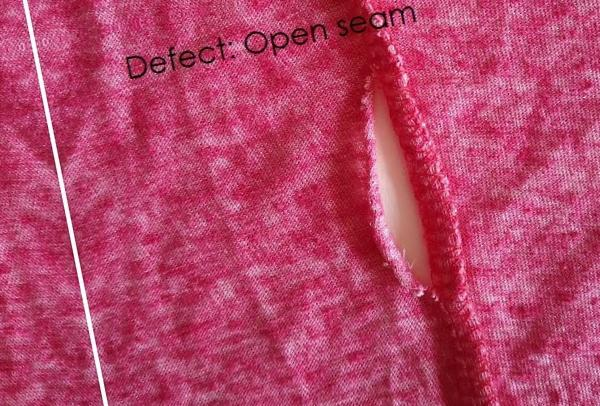hole: (350, 57, 483, 309)
